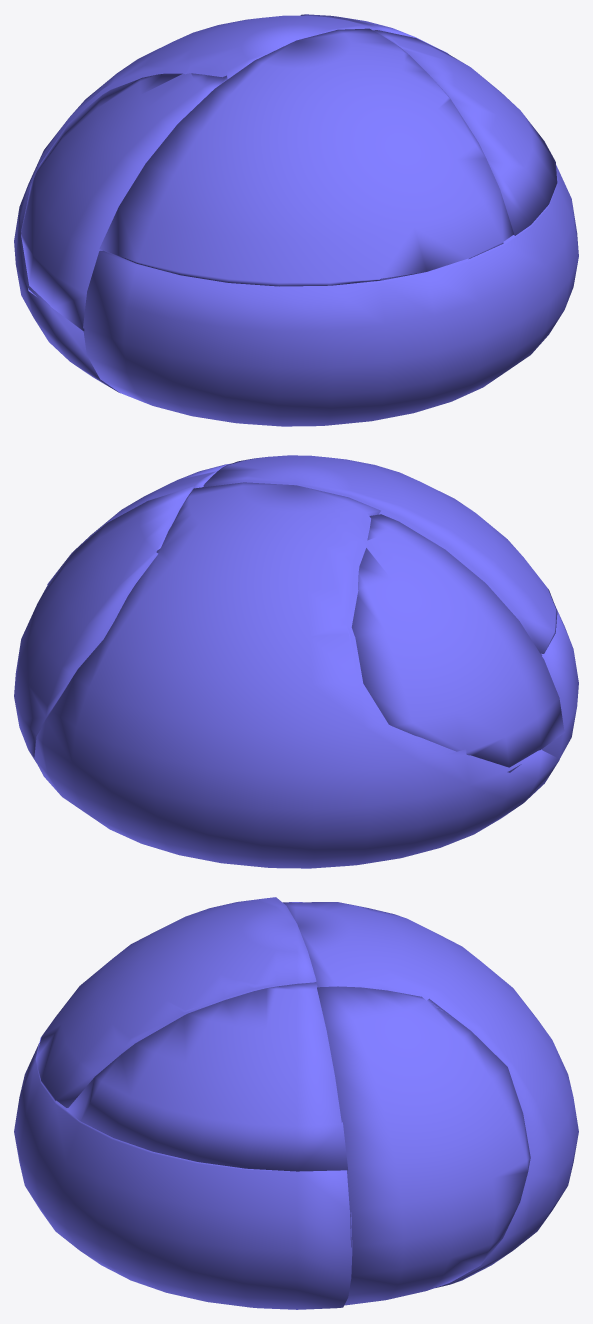
The model's file is brokenrimuru.fbx.
3 views of the same model, one above another, from view 1: azimuth 30°, elevation 25°; view 2: azimuth 150°, elevation 25°; view 3: azimuth 270°, elevation 25° (orthographic).
Visible parts, largest first — view 1: kulit biru.005, kulit biru, kulit biru.003, kulit biru.002, kulit biru.006; view 2: kulit biru.002, kulit biru.003, kulit biru.004, kulit biru.005, kulit biru, kulit biru.006; view 3: kulit biru.004, kulit biru, kulit biru.006, kulit biru.002, kulit biru.005.
Boxes of the visible parts, x1,y1,x2,y2 form: kulit biru.005: (99, 28, 513, 286); kulit biru: (83, 165, 578, 426); kulit biru.003: (21, 73, 227, 331); kulit biru.002: (14, 15, 375, 392); kulit biru.006: (373, 30, 557, 235); kulit biru.002: (34, 482, 559, 868); kulit biru.003: (351, 514, 565, 772); kulit biru.004: (14, 486, 193, 762); kulit biru.005: (203, 455, 557, 653); kulit biru: (541, 606, 578, 758); kulit biru.006: (47, 463, 230, 584); kulit biru.004: (317, 986, 530, 1305); kulit biru: (14, 1043, 352, 1309); kulit biru.006: (66, 982, 347, 1171); kulit biru.002: (283, 902, 578, 1287); kulit biru.005: (35, 897, 316, 1107).
Size of the model in its own units: 183 by 113 by 182.
